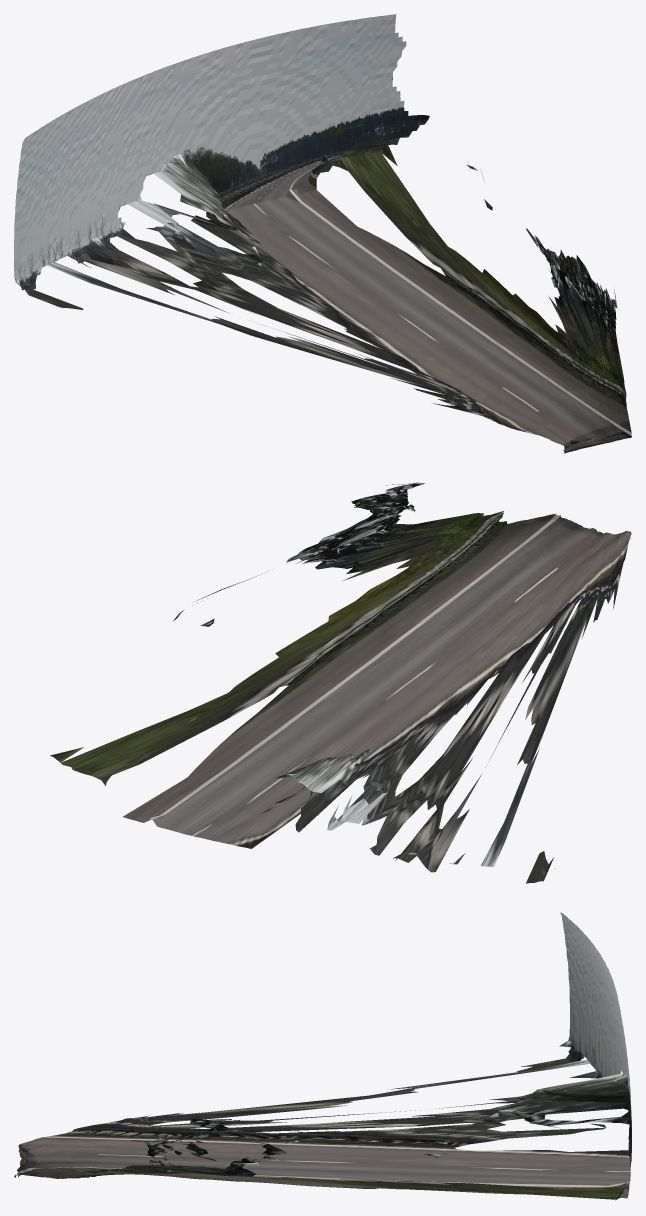
The picture shows the model from 3 angles, top to bottom: view 1: azimuth 30°, elevation 25°; view 2: azimuth 150°, elevation 25°; view 3: azimuth 270°, elevation 25°; orthographic projection. The views are drawn at different scales.
Parts seen in each view (by area): view 1: defaultobject; view 2: defaultobject; view 3: defaultobject.
Part boxes in pixels (bbox=[...]): defaultobject: bbox=[14, 14, 631, 453]; defaultobject: bbox=[50, 482, 631, 883]; defaultobject: bbox=[14, 912, 631, 1200].
Size of the model in its own units: 32.55 by 12.34 by 44.57.
Materials: 1 (1 with a texture image).
